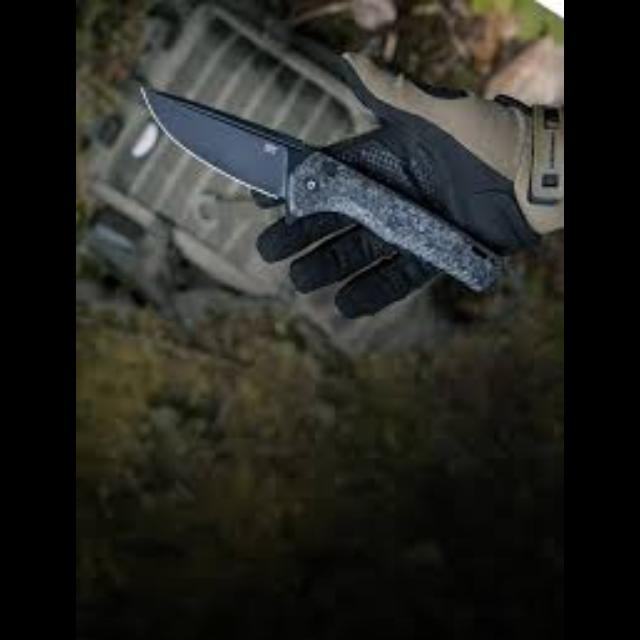Knife: (136, 80, 507, 296)
